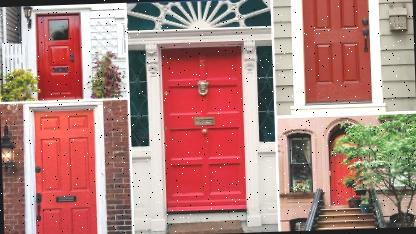door: (157, 39, 255, 218), (24, 102, 107, 234), (297, 0, 378, 109), (30, 8, 88, 101)
